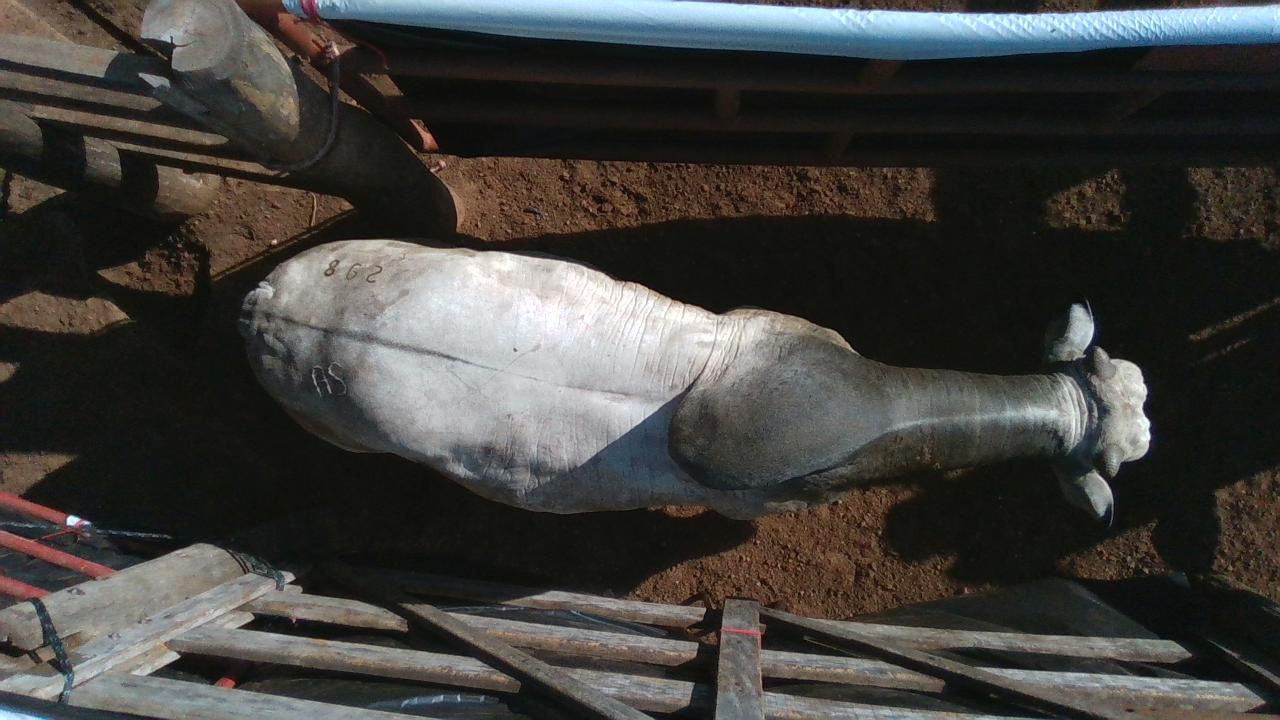cattle: (236, 235, 1152, 531)
